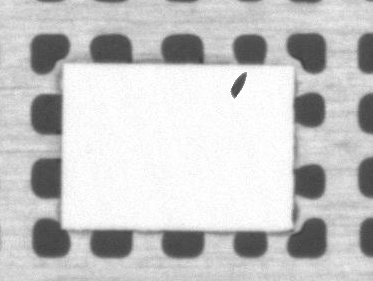DIE_INK: (303, 50, 329, 76)
